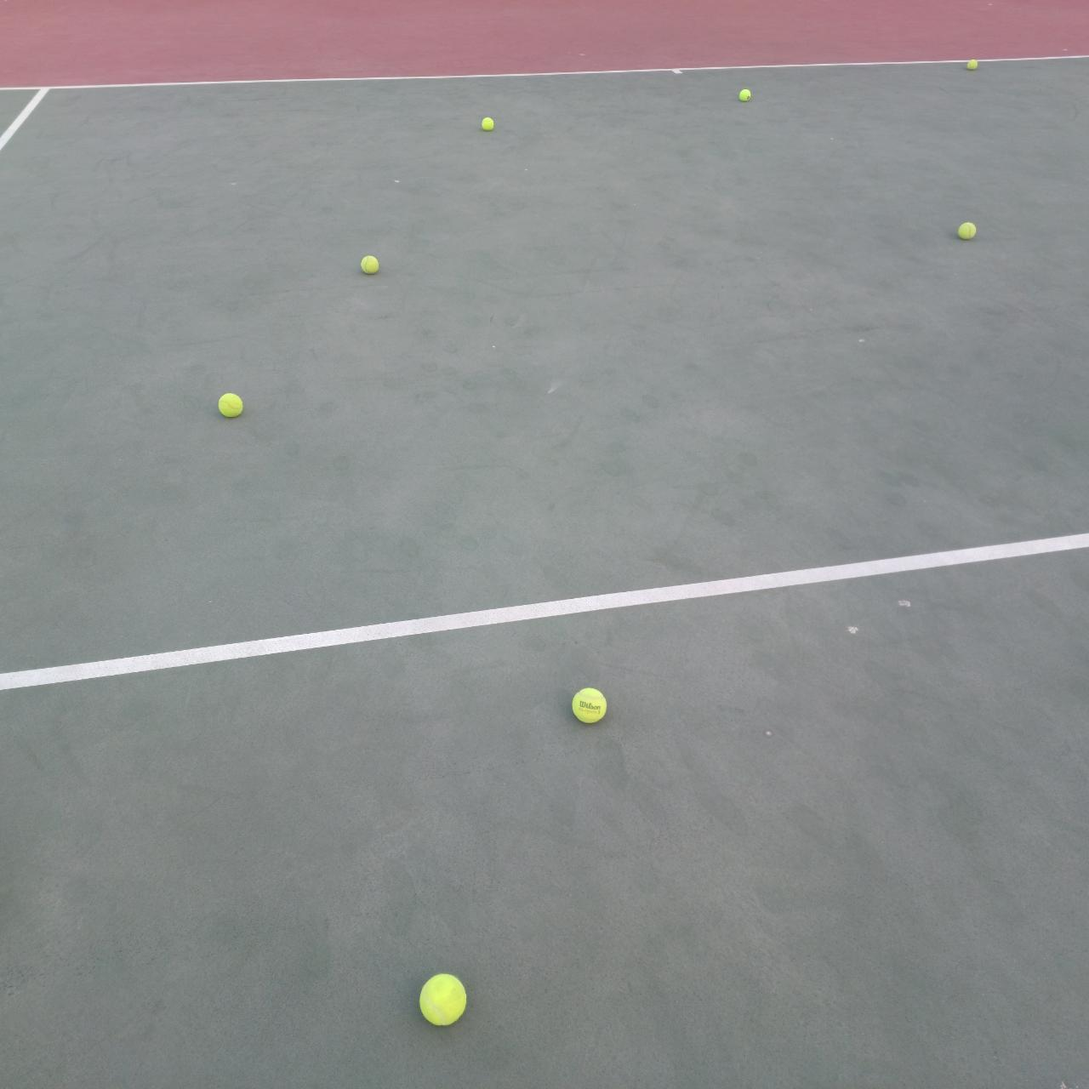tennis-ball: (418, 971, 468, 1026), (570, 685, 607, 724), (216, 390, 244, 419), (358, 253, 379, 274), (957, 221, 977, 239), (481, 117, 495, 131), (739, 89, 751, 101), (967, 59, 978, 70)
